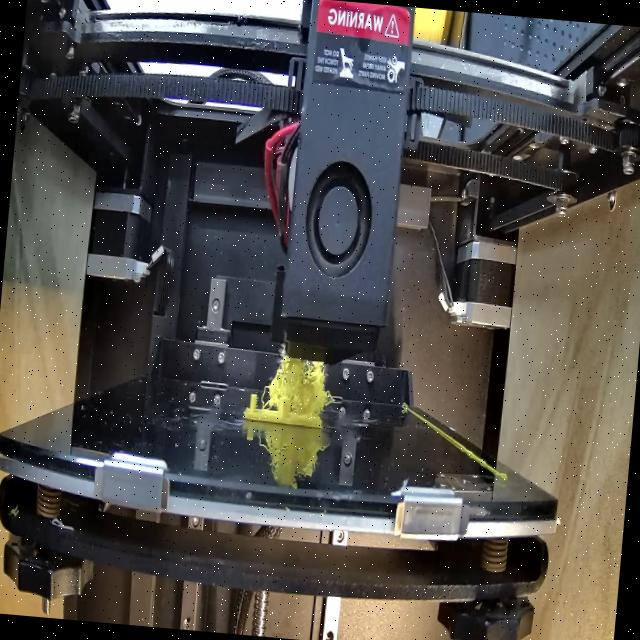spaghetti: (260, 343, 338, 416)
